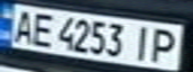2: (69, 16, 93, 54)
3: (103, 20, 130, 60)
4: (51, 15, 75, 52)
5: (87, 18, 109, 56)
A: (6, 7, 39, 45)
E: (27, 10, 57, 48)
I: (127, 23, 157, 62)
P: (145, 25, 187, 64)
